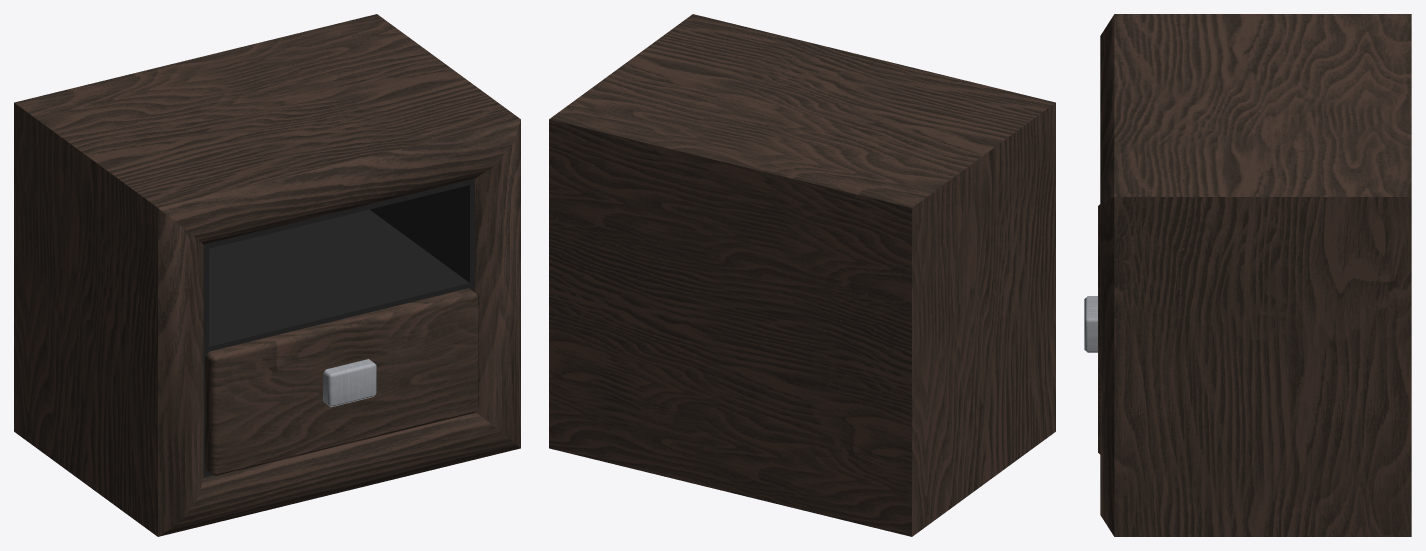
File: dresser_018.fbx
The picture shows the model from 3 angles, left to right: view 1: azimuth 30°, elevation 25°; view 2: azimuth 150°, elevation 25°; view 3: azimuth 270°, elevation 25°; orthographic projection. The views are drawn at different scales.
Visible parts, largest first — view 1: dresser_018; view 2: dresser_018; view 3: dresser_018.
Part boxes in pixels (x1,y1,x2,y2): dresser_018: [14, 14, 520, 536]; dresser_018: [549, 14, 1055, 536]; dresser_018: [1084, 14, 1411, 536].
Size of the model in its own units: 77.36 by 58.5 by 67.01.
